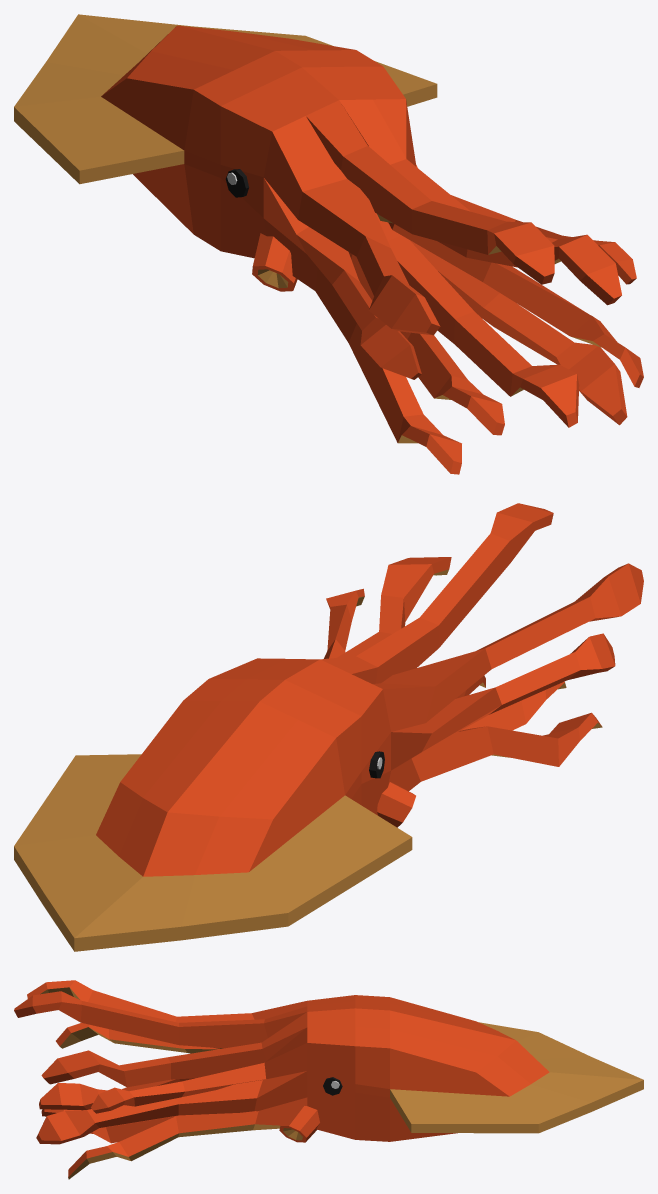
File: Squid_01.fbx
3 views of the same model, one above another, from view 1: azimuth 30°, elevation 25°; view 2: azimuth 150°, elevation 25°; view 3: azimuth 270°, elevation 25° (orthographic). The views are drawn at different scales.
Visible parts, largest first — view 1: Squid_01; view 2: Squid_01; view 3: Squid_01.
Part boxes in pixels (bbox=[...]): Squid_01: bbox=[14, 14, 643, 474]; Squid_01: bbox=[14, 503, 643, 951]; Squid_01: bbox=[14, 980, 643, 1179].
Bounding box in the file's own units: 9.19 × 5.64 × 21.71.
